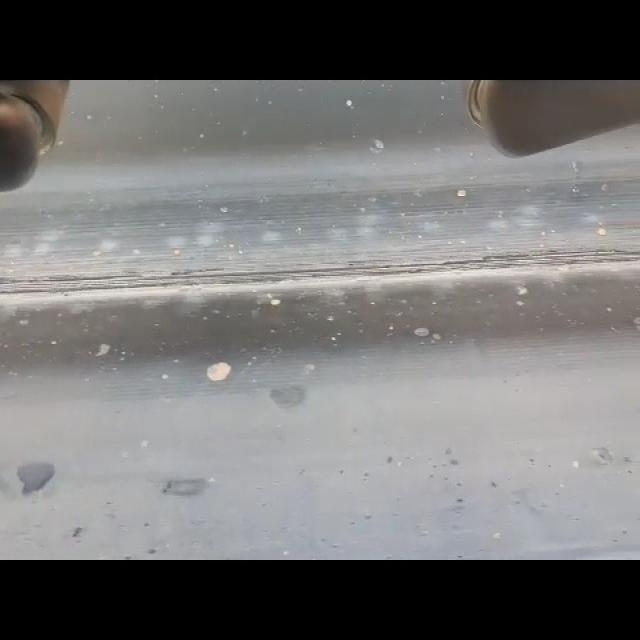Wear: (0, 244, 640, 300)
